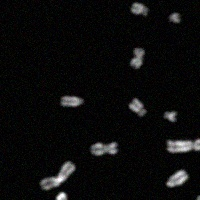chromosome: (40, 162, 76, 190), (167, 138, 200, 153), (90, 141, 118, 157), (166, 170, 188, 188), (130, 98, 146, 118), (60, 94, 83, 107), (131, 49, 144, 69), (131, 2, 148, 17), (162, 110, 179, 123), (168, 13, 181, 23), (57, 192, 69, 200), (196, 195, 200, 200)
